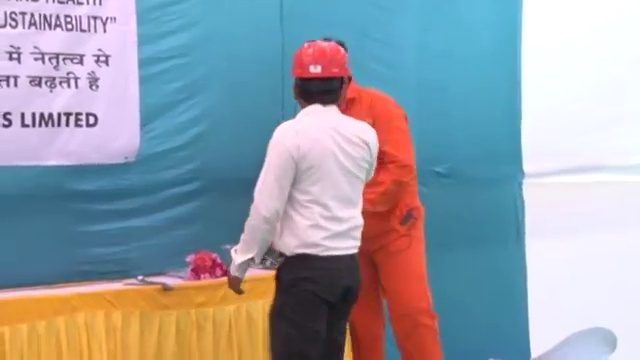helmet: (290, 39, 352, 82)
helmet_on: (288, 37, 352, 110)
person: (228, 36, 378, 360), (336, 76, 441, 360)
